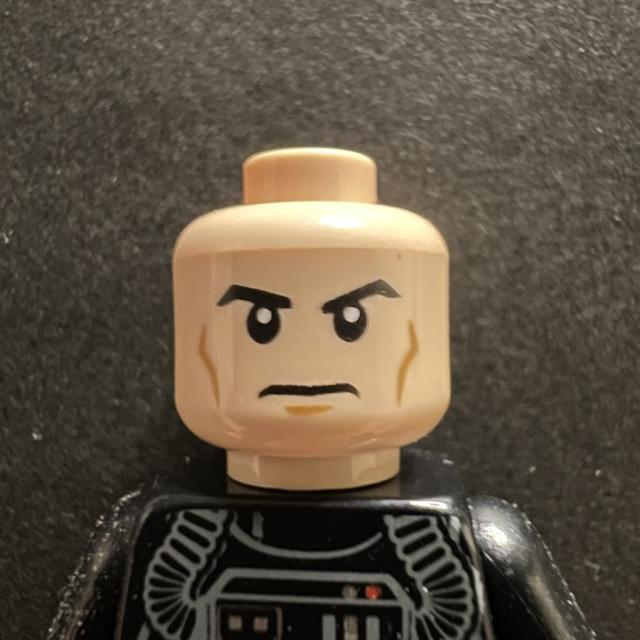lego: (166, 140, 458, 486)
